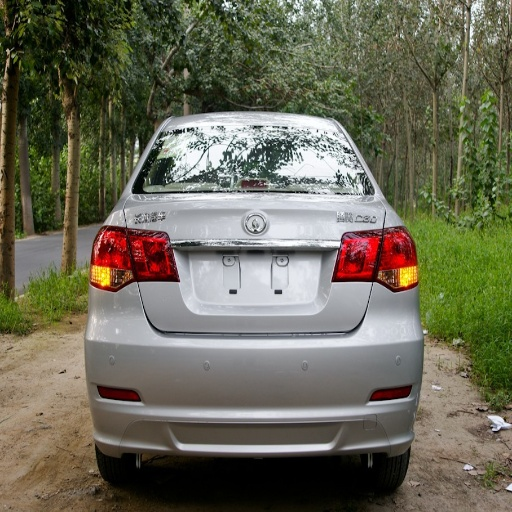back_bumper: (90, 281, 415, 454)
